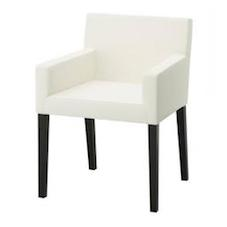chair: (16, 6, 214, 212)
